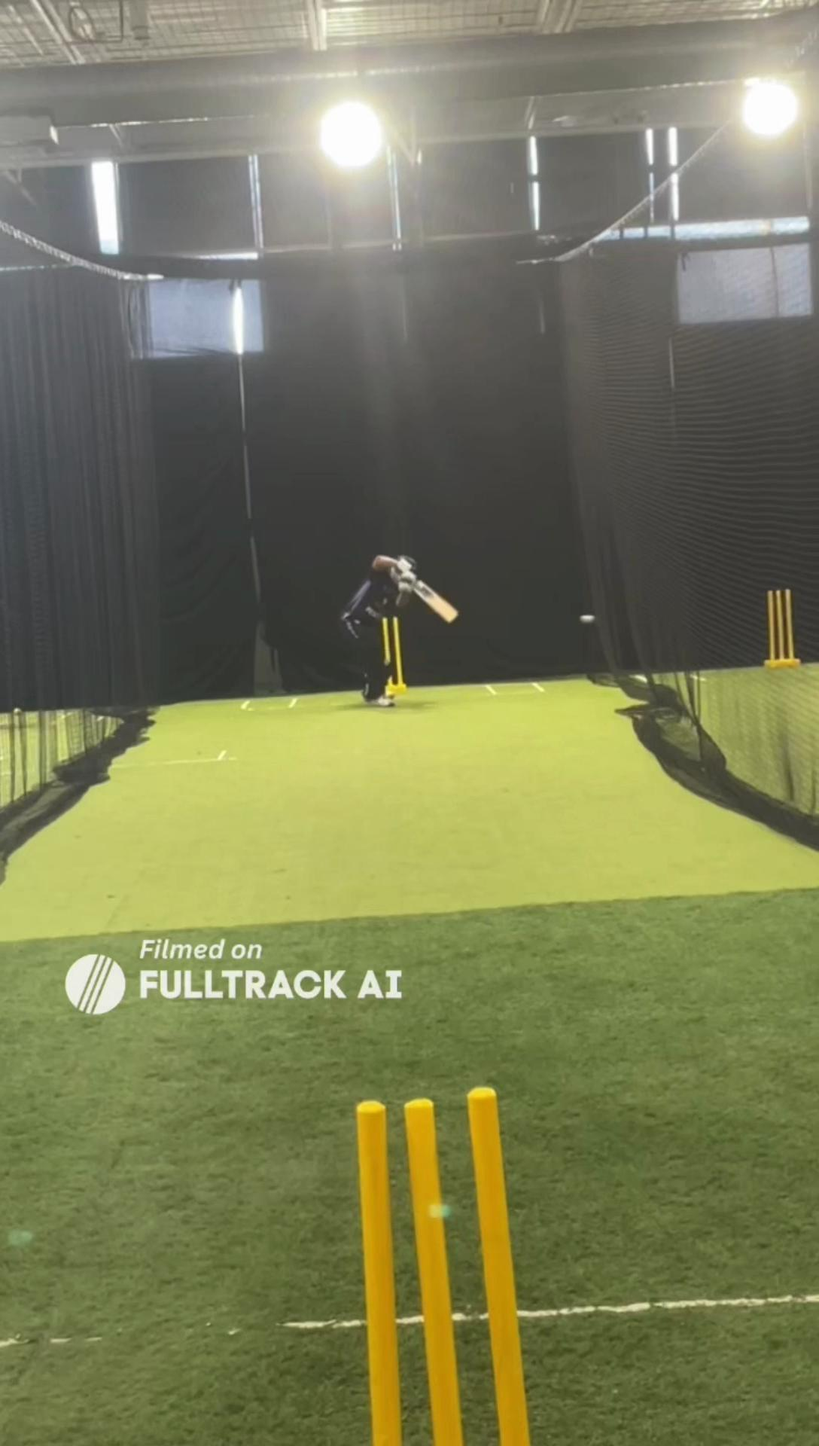ball: (577, 611, 597, 628)
